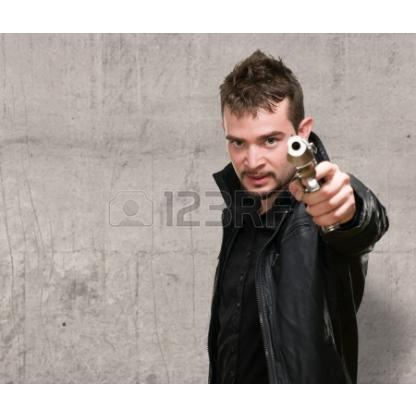gun: (280, 136, 336, 236)
